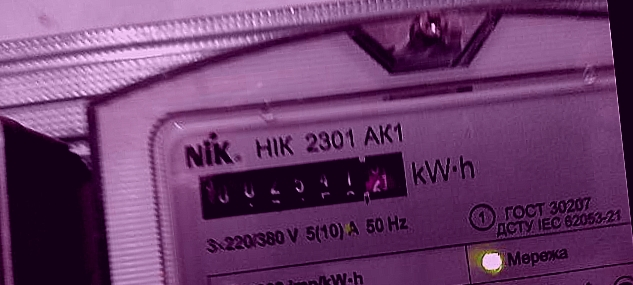0: (211, 178, 232, 206), (239, 172, 256, 201)
1: (338, 160, 354, 188)
2: (263, 170, 281, 196)
4: (314, 163, 330, 188)
5: (288, 166, 309, 196)
6: (367, 174, 384, 193)
screen: (183, 136, 423, 231)
